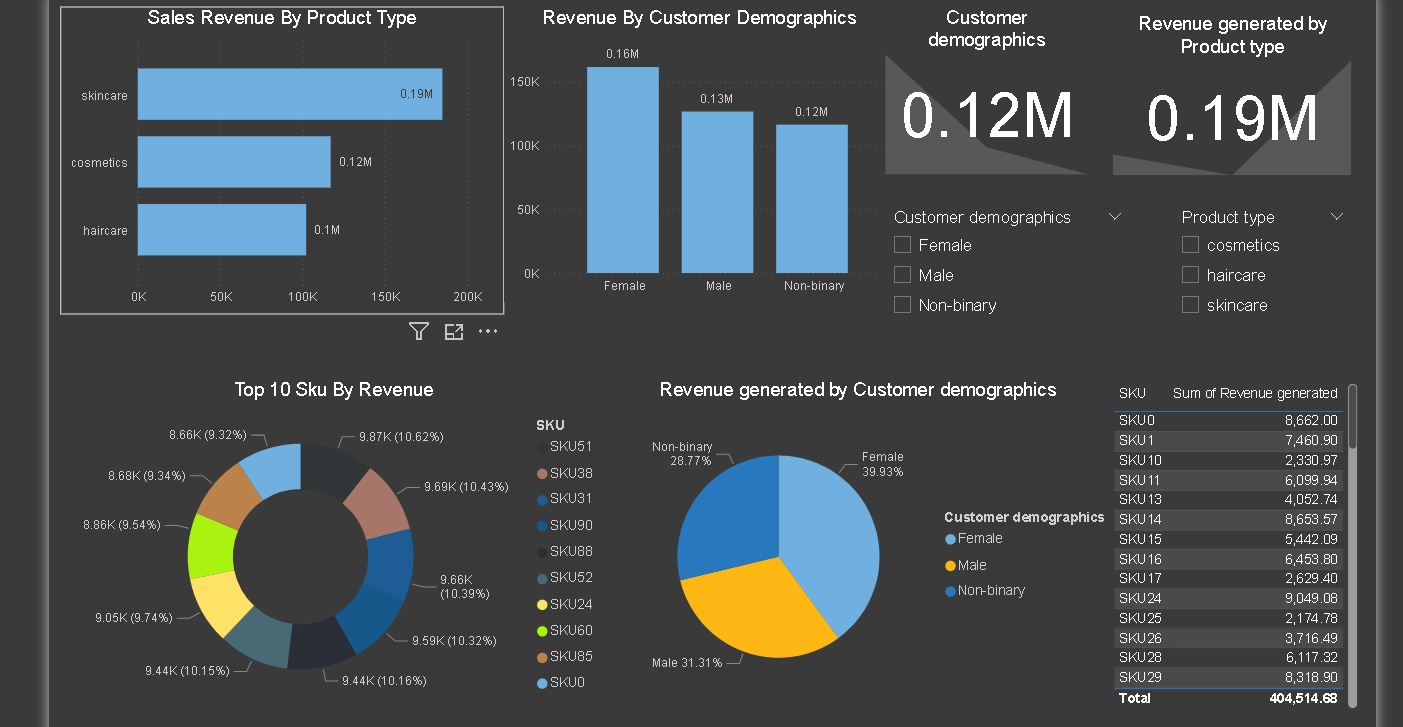

Layout of this report page (visuals, bound fields, positions):
{"tool":"powerbi","page":{"name":"Sales Analysis","canvas":[1280,720],"ordinal":0},"visuals":[{"type":"barChart","title":"Sales Revenue By Product Type","fields":{"Category":["supply_chain_data.Product type"],"Y":["Sum(supply_chain_data.Revenue generated)"]},"box":[11,12.3,428.1,296.4],"z":0},{"type":"tableEx","fields":{"Values":["supply_chain_data.SKU","Sum(supply_chain_data.Revenue generated)"]},"box":[1022.3,371.9,245.6,322.5],"z":1000},{"type":"donutChart","title":"Top 10 Sku By Revenue","fields":{"Category":["supply_chain_data.SKU"],"Y":["Sum(supply_chain_data.Revenue generated)"]},"box":[11,371.9,528.3,322.5],"z":2000},{"type":"columnChart","title":"Revenue By Customer Demographics","fields":{"Category":["supply_chain_data.Customer demographics"],"Y":["Sum(supply_chain_data.Revenue generated)"]},"box":[439.1,12.3,377.4,285.4],"z":3000},{"type":"pieChart","title":" Revenue generated by Customer demographics","fields":{"Category":["supply_chain_data.Customer demographics"],"Y":["Sum(supply_chain_data.Revenue generated)"]},"box":[539.3,371.9,483,322.5],"z":4000},{"type":"slicer","fields":{"Values":["supply_chain_data.Product type"]},"box":[1081.3,201.7,181.1,142.7],"z":5000},{"type":"slicer","fields":{"Values":["supply_chain_data.Customer demographics"]},"box":[802.7,201.7,245.6,142.7],"z":6000},{"type":"kpi","title":" Revenue generated by Product type","fields":{"Indicator":["Sum(supply_chain_data.Revenue generated)"],"TrendLine":["supply_chain_data.Product type"]},"box":[1022.3,17.8,240.1,161.9],"z":7000},{"type":"kpi","title":"Customer demographics","fields":{"TrendLine":["supply_chain_data.Customer demographics"],"Indicator":["Sum(supply_chain_data.Revenue generated)"]},"box":[802.7,12.3,205.8,167.4],"z":8000}]}

Visuals, with their boxes on the page's 1280x720 design canvas (x1, y1, x2, y2). These are canvas units, not pixel positions in the 1403x727 screenshot, which may show the page scaled, cropped or inside an application window:
"Sales Revenue By Product Type" barChart: bbox=(11, 12, 439, 309)
tableEx - supply_chain_data.SKU x Sum(supply_chain_data.Revenue generated): bbox=(1022, 372, 1268, 694)
"Top 10 Sku By Revenue" donutChart: bbox=(11, 372, 539, 694)
"Revenue By Customer Demographics" columnChart: bbox=(439, 12, 816, 298)
" Revenue generated by Customer demographics" pieChart: bbox=(539, 372, 1022, 694)
slicer - supply_chain_data.Product type: bbox=(1081, 202, 1262, 344)
slicer - supply_chain_data.Customer demographics: bbox=(803, 202, 1048, 344)
" Revenue generated by Product type" kpi: bbox=(1022, 18, 1262, 180)
"Customer demographics" kpi: bbox=(803, 12, 1008, 180)
